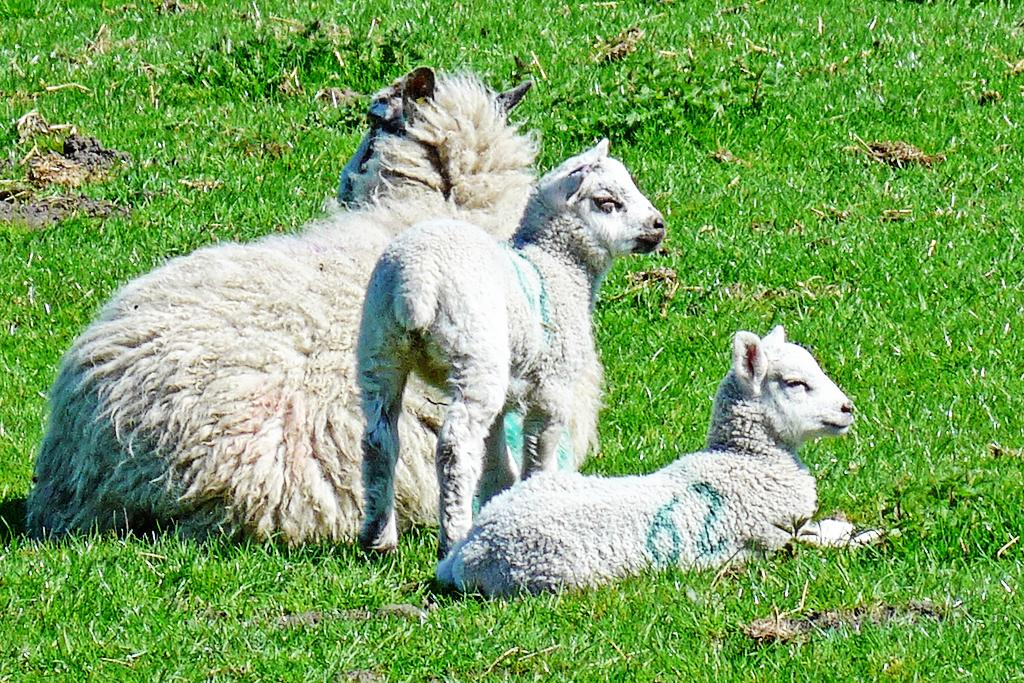Sheep: (19, 68, 540, 556), (356, 136, 662, 562), (431, 331, 891, 604)
